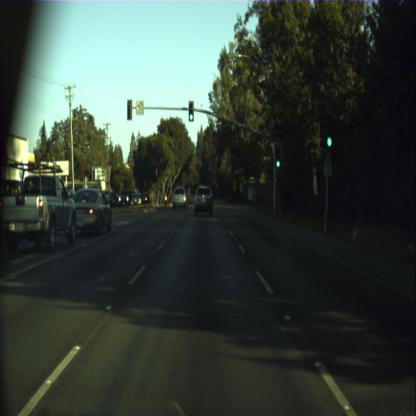Green: (324, 118, 332, 147), (275, 150, 280, 168), (188, 100, 192, 122)
RedLeft: (127, 100, 132, 118)
